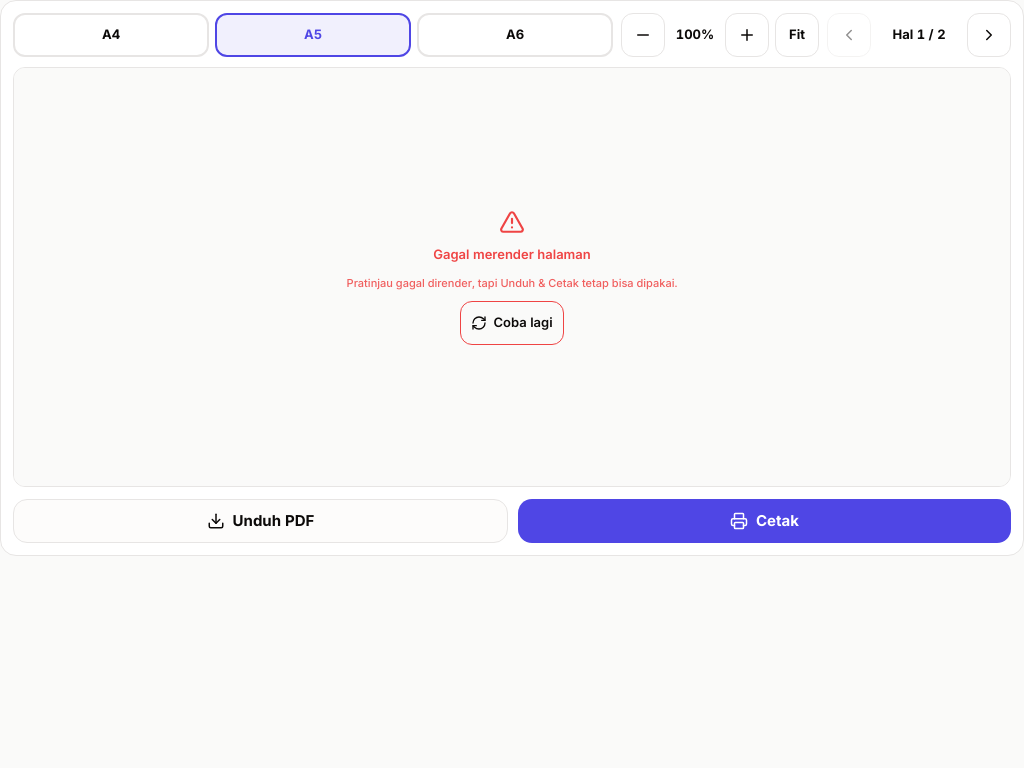
Test case: PdfPreviewPanel › klik "Coba lagi" merender ulang halaman dan menghilangkan error
Expected: the text "Gagal merender halaman" is shown, [433, 245, 591, 264]
Click the button "Coba lagi" at x=512, y=323, box [460, 301, 564, 345]
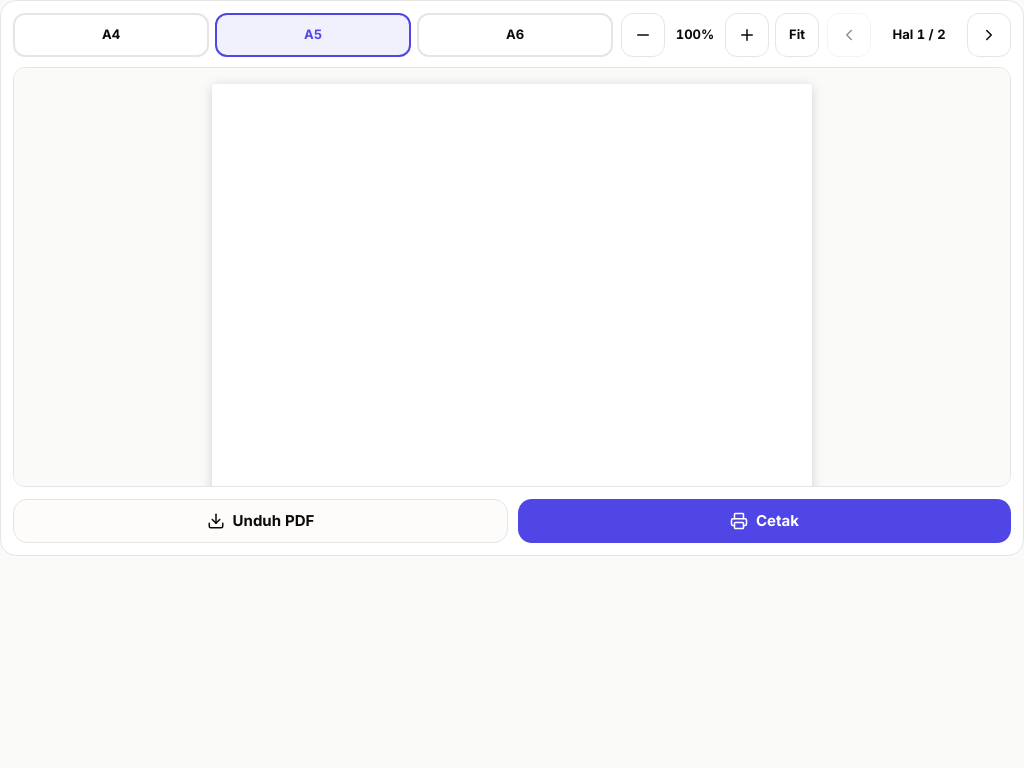
Expected: the button "Unduh PDF" is enabled, [13, 499, 508, 543]
Now the text "Gagal merender halaman" is gone
Now the button "Coba lagi" is gone
